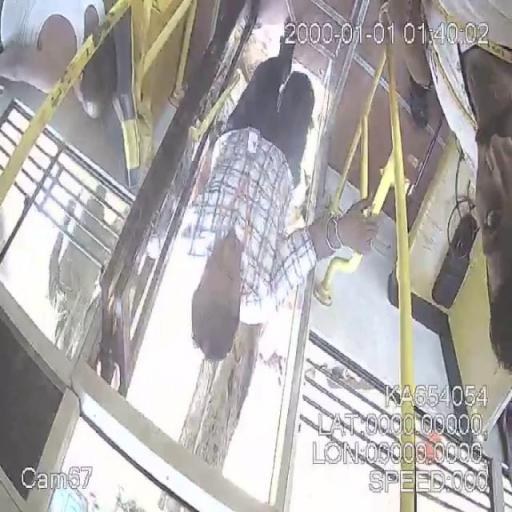persona: (177, 124, 381, 470), (380, 1, 512, 384), (0, 0, 149, 130)
